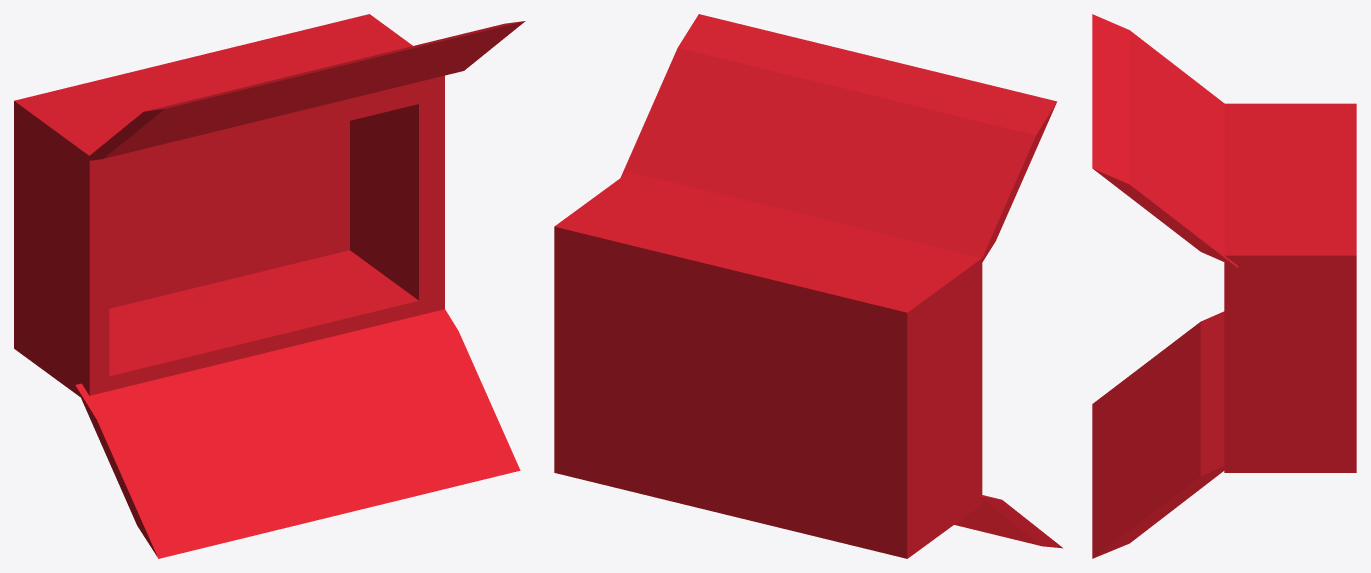
Rendered from other_box.obj.
3 renders of one model, left to right at view 1: azimuth 30°, elevation 25°; view 2: azimuth 150°, elevation 25°; view 3: azimuth 270°, elevation 25°, orthographic. The views are drawn at different scales.
Parts seen in each view (by area): view 1: obj_0; view 2: obj_0; view 3: obj_0.
Part boxes in pixels (box(x1,y1,x2,y2)): obj_0: box(14, 14, 525, 558); obj_0: box(554, 14, 1062, 558); obj_0: box(1092, 14, 1356, 558).
Bounding box in the file's own units: 0.1436 × 0.1675 × 0.1022.
